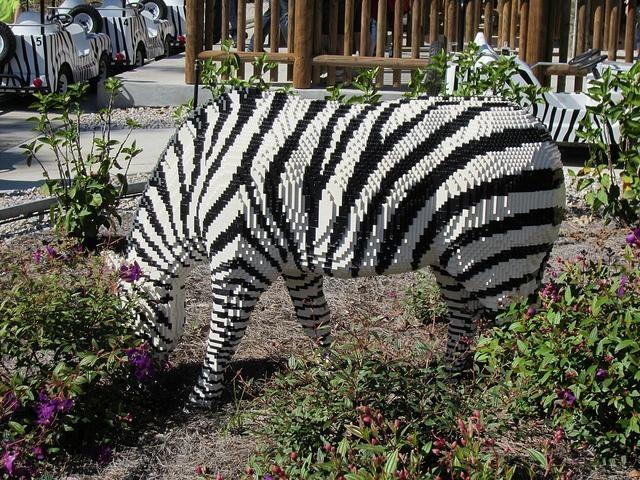car: (0, 10, 113, 110), (54, 3, 174, 68), (125, 1, 187, 47)
